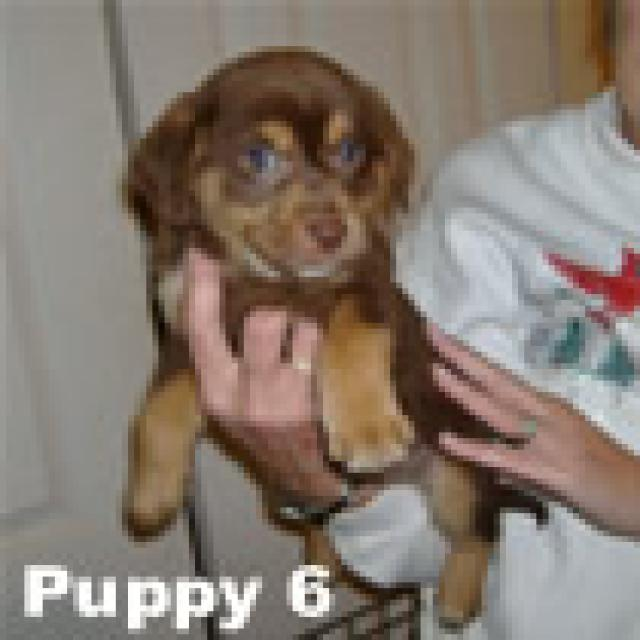dogs: (122, 45, 501, 630)
